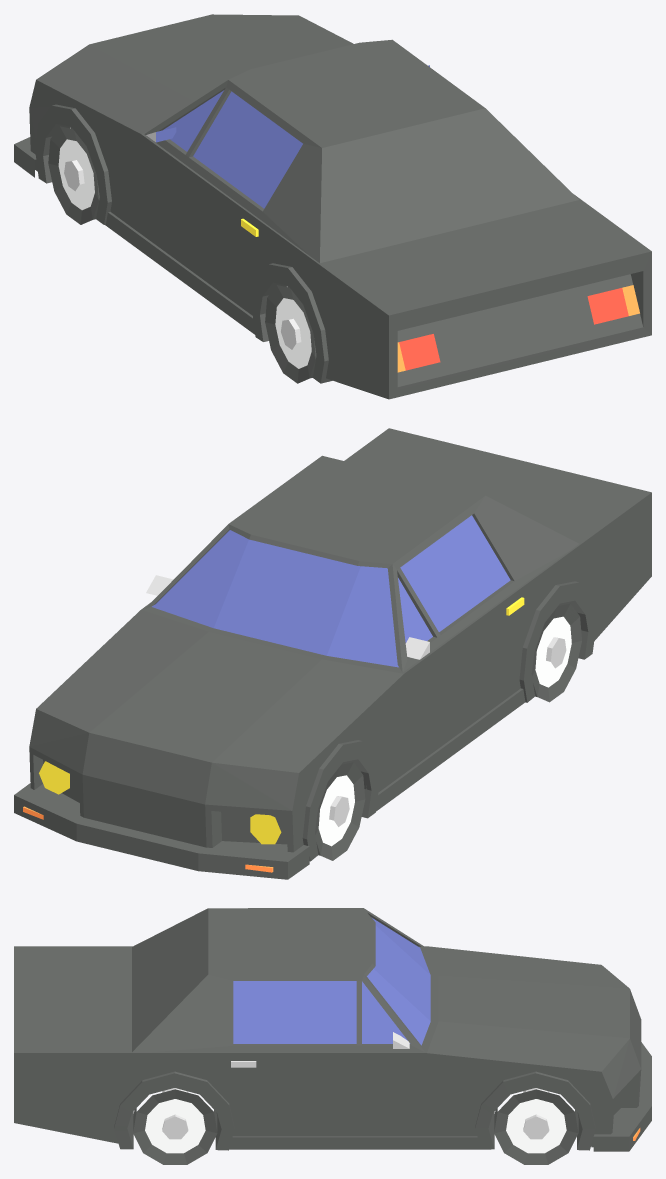
File: transport_sport.005.glb
3 views of the same model, one above another, from view 1: azimuth 30°, elevation 25°; view 2: azimuth 150°, elevation 25°; view 3: azimuth 270°, elevation 25° (orthographic). The views are drawn at different scales.
Parts seen in each view (by area): view 1: transport_sport.005(Clone); view 2: transport_sport.005(Clone); view 3: transport_sport.005(Clone).
Part boxes in pixels (x1,y1,x2,y2): transport_sport.005(Clone): (14, 14, 651, 399); transport_sport.005(Clone): (14, 428, 651, 879); transport_sport.005(Clone): (14, 908, 651, 1164).
Size of the model in its own units: 1.63 by 1.15 by 3.94.
1 material, 1 textured.
